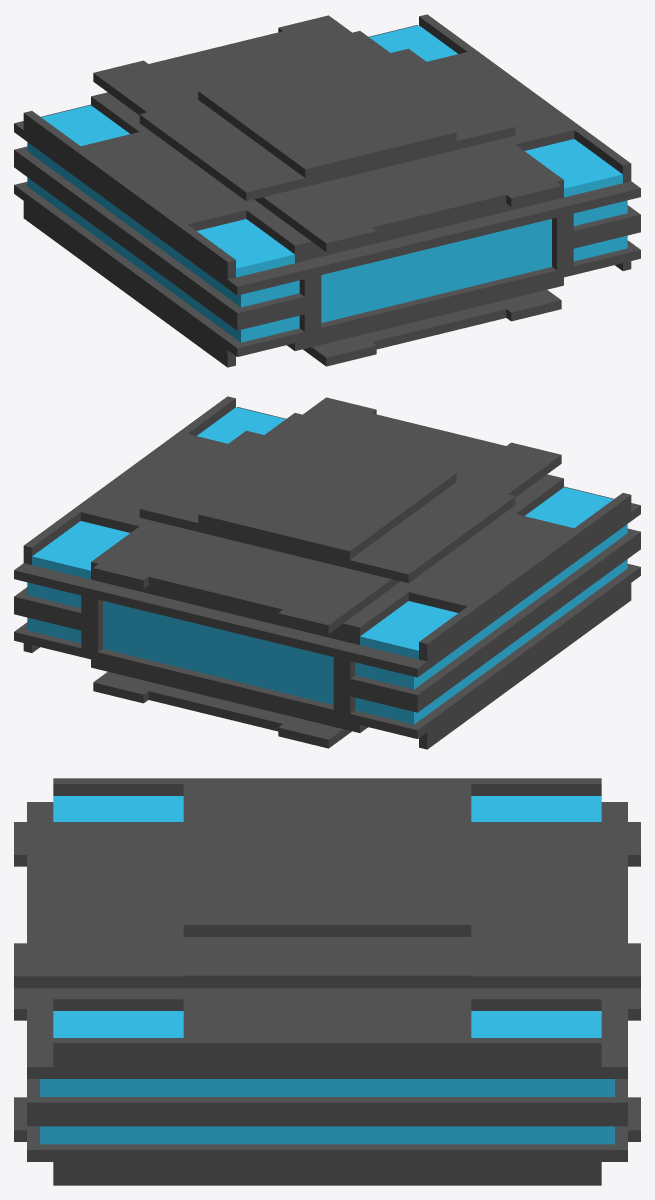
The model's file is alien_saucer2b.fbx.
3 renders of one model, top to bottom at view 1: azimuth 30°, elevation 25°; view 2: azimuth 150°, elevation 25°; view 3: azimuth 270°, elevation 25°, orthographic. The views are drawn at different scales.
Visible parts, largest first — view 1: alien_saucer2b; view 2: alien_saucer2b; view 3: alien_saucer2b.
Boxes of the visible parts, x1,y1,x2,y2 form: alien_saucer2b: (14,14,640,367); alien_saucer2b: (14,396,640,749); alien_saucer2b: (14,778,640,1185).
Size of the model in its own units: 4.8 by 4.8 by 1.8.
1 material, 1 textured.
